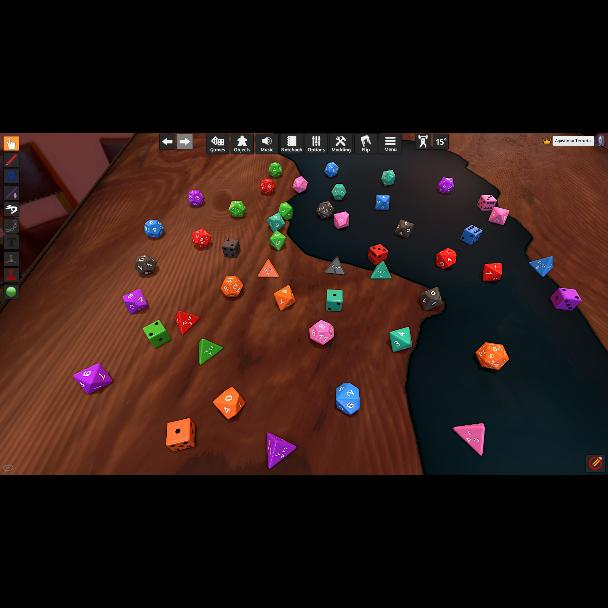d10: (214, 388, 244, 418), (335, 382, 361, 416), (122, 289, 148, 314), (418, 286, 444, 310), (435, 247, 457, 269), (268, 214, 284, 232), (333, 211, 348, 229), (279, 202, 293, 220)
d12: (310, 320, 333, 344), (135, 254, 157, 276), (222, 275, 242, 297), (145, 220, 165, 238), (187, 189, 203, 207), (332, 183, 346, 200), (268, 162, 282, 178), (260, 179, 274, 195)
d20: (476, 342, 508, 370), (192, 229, 212, 249), (228, 200, 246, 218), (438, 177, 454, 193), (317, 202, 333, 218), (324, 161, 338, 177), (381, 170, 395, 186), (292, 177, 306, 193)
d4: (266, 432, 296, 468), (454, 423, 484, 455), (175, 310, 199, 334), (198, 339, 220, 365), (529, 256, 553, 278), (370, 260, 392, 280), (258, 260, 280, 278), (324, 257, 344, 275)
d6: (166, 418, 196, 452), (143, 320, 170, 347), (550, 288, 582, 310), (459, 225, 481, 245), (368, 244, 388, 266), (326, 289, 342, 311), (221, 238, 238, 258), (478, 195, 496, 211)
d8: (73, 361, 113, 392), (274, 285, 296, 309), (390, 328, 411, 352), (488, 206, 510, 226), (482, 262, 502, 282), (270, 230, 286, 250), (394, 219, 411, 237), (375, 194, 389, 210)
